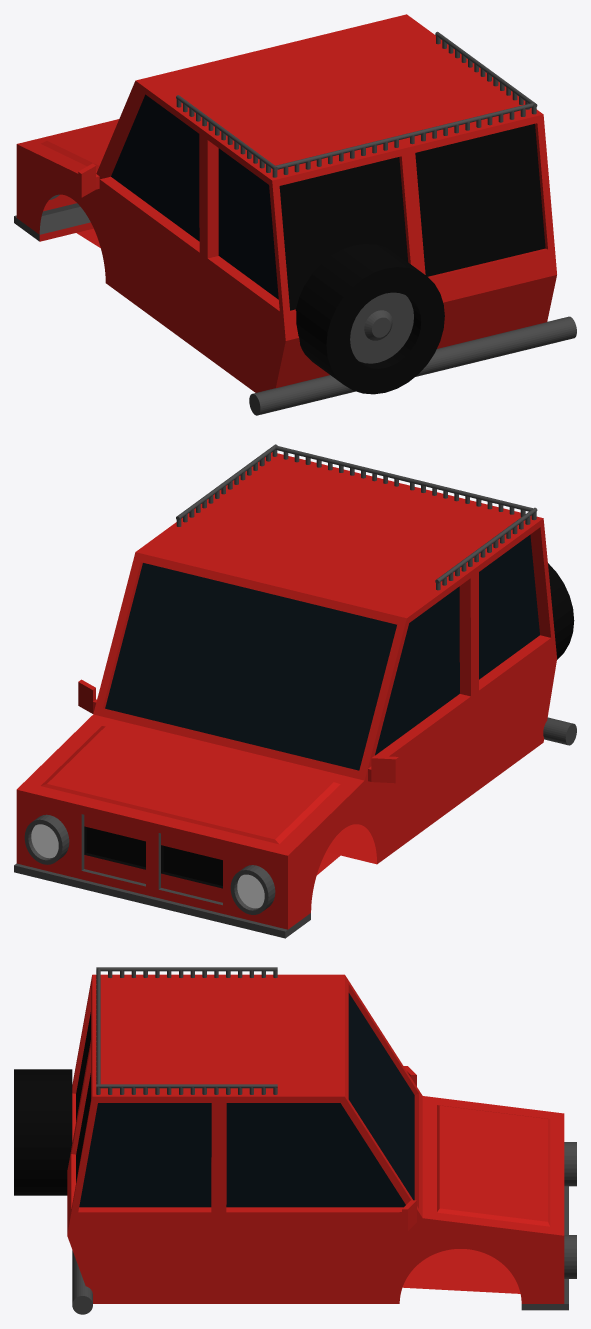
Rendered from jeep.obj.
3 renders of one model, top to bottom at view 1: azimuth 30°, elevation 25°; view 2: azimuth 150°, elevation 25°; view 3: azimuth 270°, elevation 25°, orthographic. The views are drawn at different scales.
Visible parts, largest first — view 1: body_Cube.001, window_Cube.003, wheel_Cylinder.004, bumper_Cube.002; view 2: body_Cube.001, window_Cube.003, headlights_Cylinder.002, wheel_Cylinder.004, bumper_Cube.002; view 3: body_Cube.001, window_Cube.003, wheel_Cylinder.004, headlights_Cylinder.002, bumper_Cube.002.
Boxes of the visible parts, x1,y1,x2,y2 form: body_Cube.001: (14, 14, 556, 392); window_Cube.003: (111, 94, 545, 310); wheel_Cylinder.004: (295, 244, 444, 394); bumper_Cube.002: (249, 316, 576, 415); body_Cube.001: (14, 444, 556, 938); window_Cube.003: (105, 535, 539, 770); headlights_Cylinder.002: (24, 814, 275, 914); wheel_Cylinder.004: (548, 563, 574, 659); bumper_Cube.002: (543, 717, 576, 745); body_Cube.001: (67, 967, 568, 1310); window_Cube.003: (76, 993, 414, 1207); wheel_Cylinder.004: (14, 1069, 72, 1195); headlights_Cylinder.002: (564, 1142, 576, 1278); bumper_Cube.002: (72, 1250, 92, 1314).
Bounding box in the file's own units: 1.29 × 0.9395 × 2.15.
